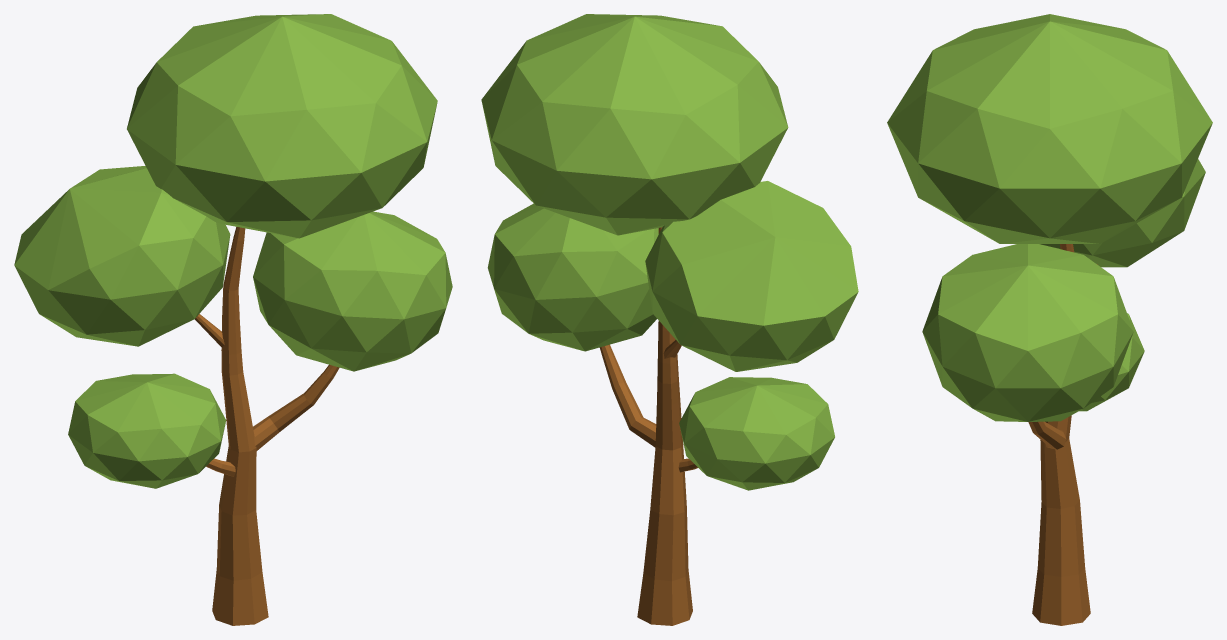
The model's file is tree_01.fbx.
3 views of the same model, side by side, from view 1: azimuth 30°, elevation 25°; view 2: azimuth 150°, elevation 25°; view 3: azimuth 270°, elevation 25° (orthographic). The views are drawn at different scales.
Parts seen in each view (by area): view 1: tree_01; view 2: tree_01; view 3: tree_01.
Boxes of the visible parts, x1=… form: tree_01: x1=14, y1=14, x2=452, y2=625; tree_01: x1=481, y1=14, x2=858, y2=625; tree_01: x1=887, y1=14, x2=1212, y2=625.
Bounding box in the file's own units: 763 × 1153 × 558.
